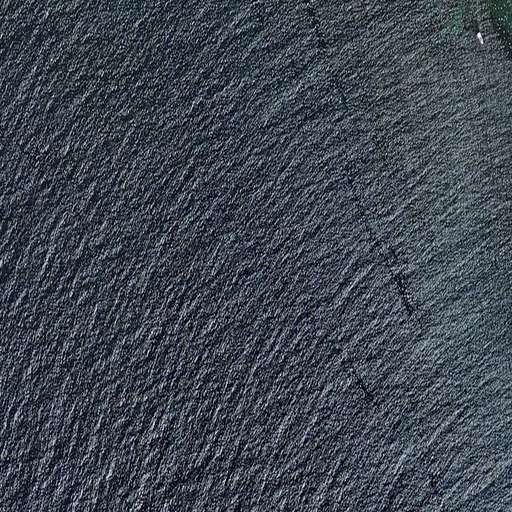ship: (476, 31, 484, 46)
